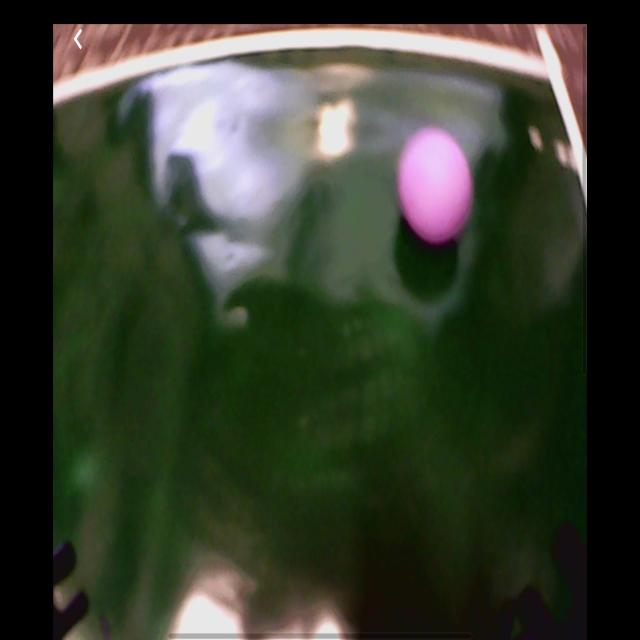ball: (398, 126, 473, 245)
